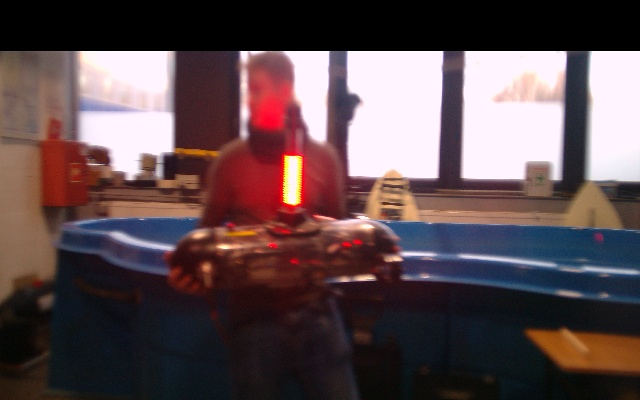red: (281, 152, 303, 211)
